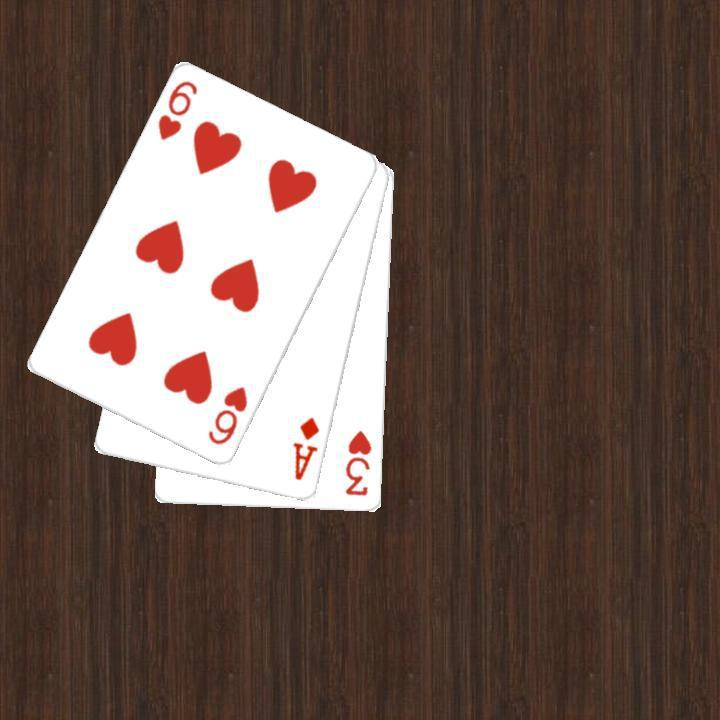3: (341, 427, 374, 498)
6: (153, 76, 200, 143), (203, 382, 250, 448)
A: (289, 413, 322, 483)
